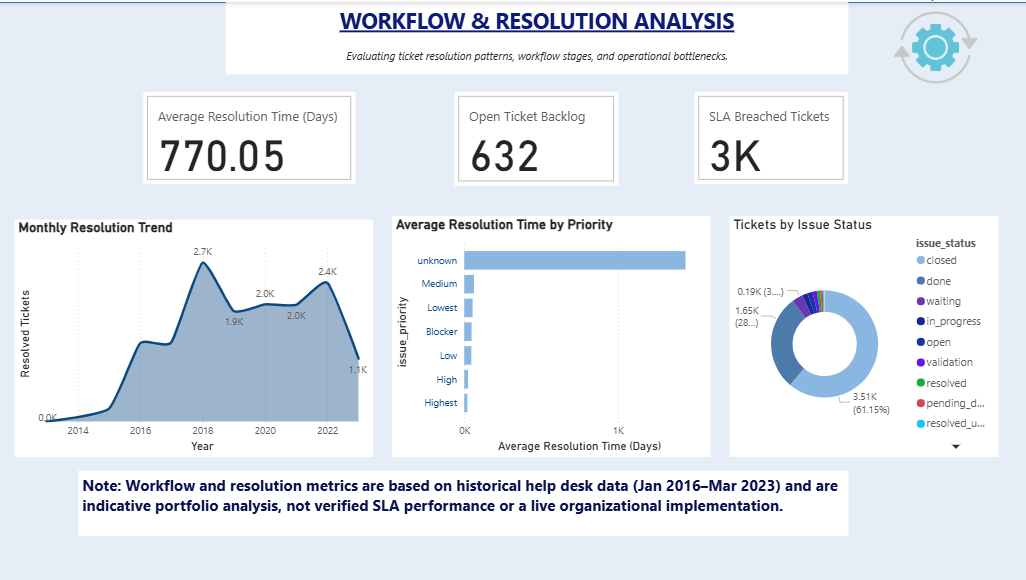

What the dashboard file says about the page in this screenshot:
{"tool":"powerbi","page":{"name":"Workflow & Resolution Analysis","canvas":[1280,720],"ordinal":1},"visuals":[{"type":"shape","box":[0,0,1280.3,720.4],"z":0},{"type":"cardVisual","fields":{"Data":["issues.Average Resolution Time (Days)"]},"box":[181.4,111.6,263.5,114.7],"z":1000},{"type":"textbox","box":[283.7,0,771.9,89.9],"z":2000},{"type":"cardVisual","fields":{"Data":["issues.Open Ticket Backlog"]},"box":[567.3,111.6,203.1,116.3],"z":3000},{"type":"cardVisual","fields":{"Data":["issues.SLA Breached Tickets"]},"box":[864.9,111.6,190.7,114.7],"z":4000},{"type":"lineChart","title":"Monthly Resolution Trend","fields":{"Category":["issues.issue_resolution_date.Variation.Date Hierarchy.Year","issues.issue_resolution_date.Variation.Date Hierarchy.Month"],"Y":["issues.Resolved Tickets"]},"box":[21.7,269.7,444.9,294.5],"z":4001},{"type":"clusteredBarChart","title":"Average Resolution Time by Priority","fields":{"Category":["issues.issue_priority"],"Y":["issues.Average Resolution Time (Days)"]},"box":[489.8,265.1,395.3,299.2],"z":4002},{"type":"donutChart","title":"Tickets by Issue Status","fields":{"Category":["issues.issue_status"],"Y":["Count(issues.issue_num)"]},"box":[908.3,265.1,333.3,299.2],"z":4003},{"type":"textbox","box":[100.8,581.3,954.8,80.6],"z":4004},{"type":"image","box":[1105.2,0,117.8,113.2],"z":4005}]}

Visuals, with their boxes in screenshot pixels (x1, y1, x2, y2), scaled from the page's 1280x720 canvas onto the 1026x580 screenshot:
shape: l=0, t=0, r=1025, b=579
cardVisual - issues.Average Resolution Time (Days): l=145, t=90, r=357, b=182
textbox: l=227, t=0, r=846, b=72
cardVisual - issues.Open Ticket Backlog: l=455, t=90, r=618, b=184
cardVisual - issues.SLA Breached Tickets: l=693, t=90, r=846, b=182
"Monthly Resolution Trend" lineChart: l=17, t=217, r=374, b=454
"Average Resolution Time by Priority" clusteredBarChart: l=393, t=214, r=709, b=455
"Tickets by Issue Status" donutChart: l=728, t=214, r=995, b=455
textbox: l=81, t=468, r=846, b=533
image: l=886, t=0, r=980, b=91
